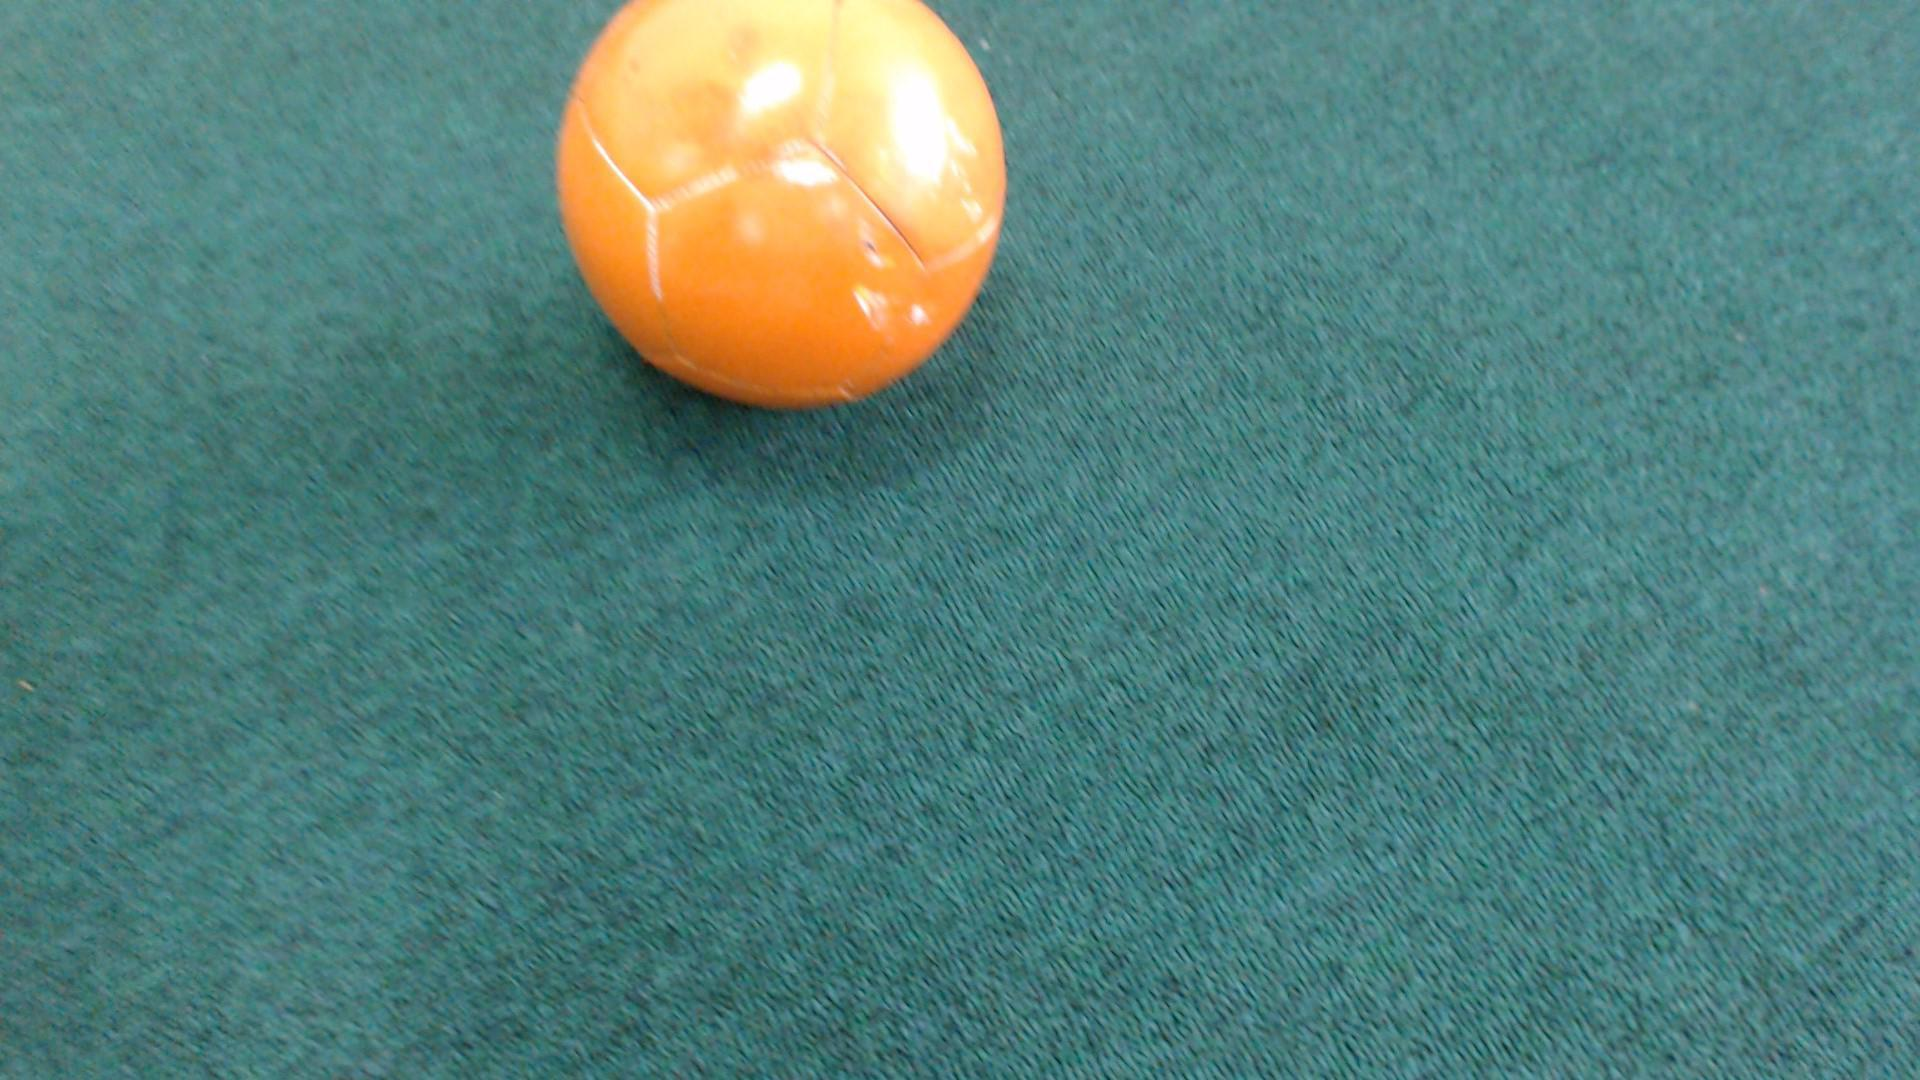bola: (527, 0, 1021, 495)
